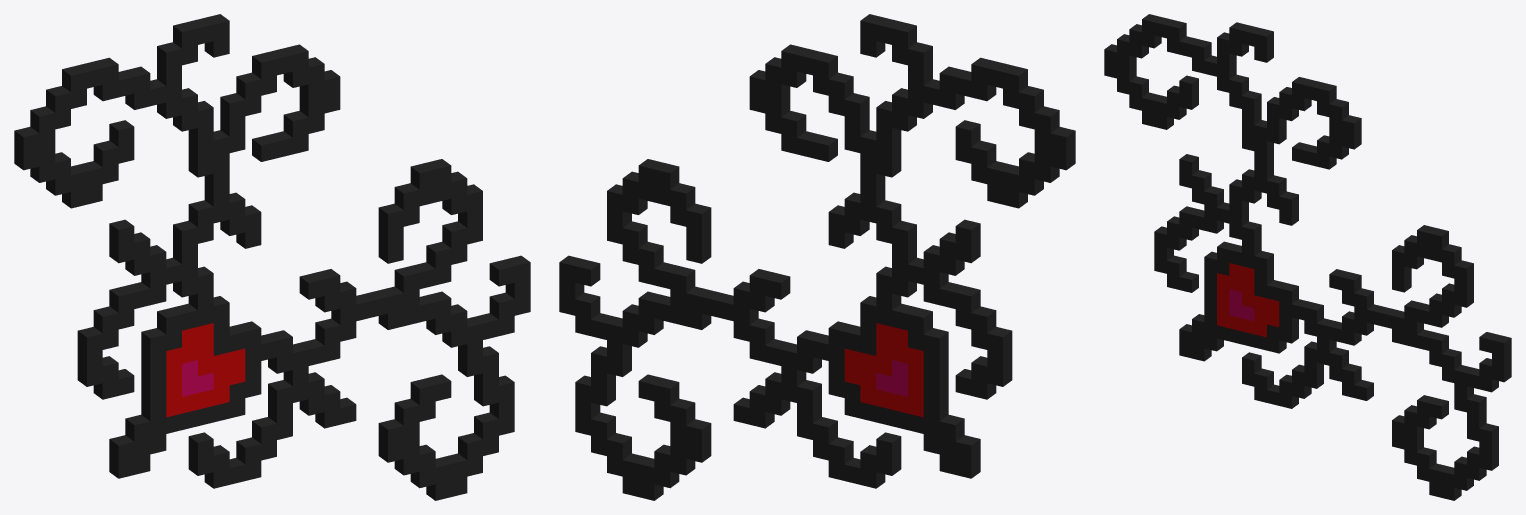
3 renders of one model, left to right at view 1: azimuth 30°, elevation 25°; view 2: azimuth 150°, elevation 25°; view 3: azimuth 330°, elevation 25°, orthographic. The views are drawn at different scales.
Size of the model in its own units: 1.6 by 1.6 by 0.05.
